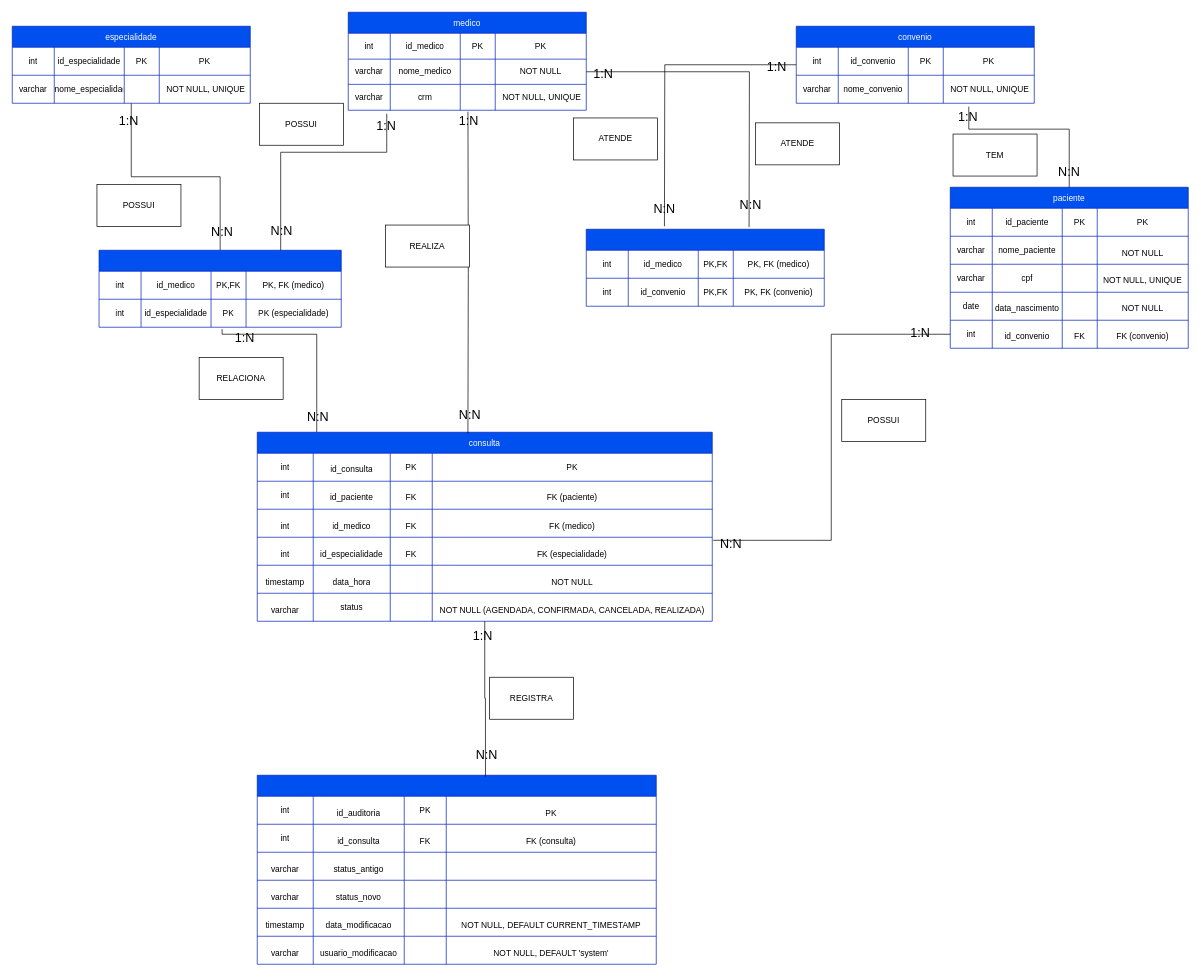
Image size: 1201x977. Some labels were removed from this diagram. Each missing label, with the box of its shape:
auditoria_consulta: (257, 775, 656, 964)
medico_convenio: (586, 229, 824, 306)
medico_especialidade: (98, 250, 341, 327)
